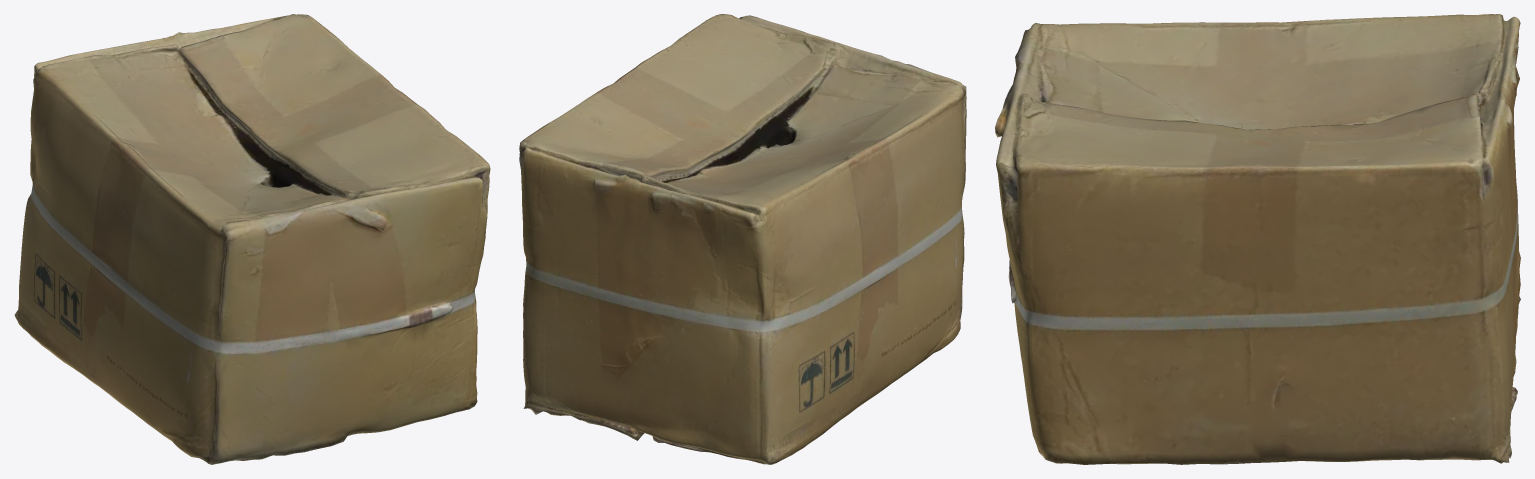
File: cardboard_box_01.glb
The picture shows the model from 3 angles, left to right: view 1: azimuth 30°, elevation 25°; view 2: azimuth 150°, elevation 25°; view 3: azimuth 270°, elevation 25°; orthographic projection. The views are drawn at different scales.
Parts seen in each view (by area): view 1: cardboard_box_01; view 2: cardboard_box_01; view 3: cardboard_box_01.
Part boxes in pixels (x1,y1,x2,y2): cardboard_box_01: [14, 14, 490, 464]; cardboard_box_01: [519, 14, 966, 464]; cardboard_box_01: [995, 14, 1520, 464].
Size of the model in its own units: 0.387 by 0.3418 by 0.5159.
1 material, 1 textured.
